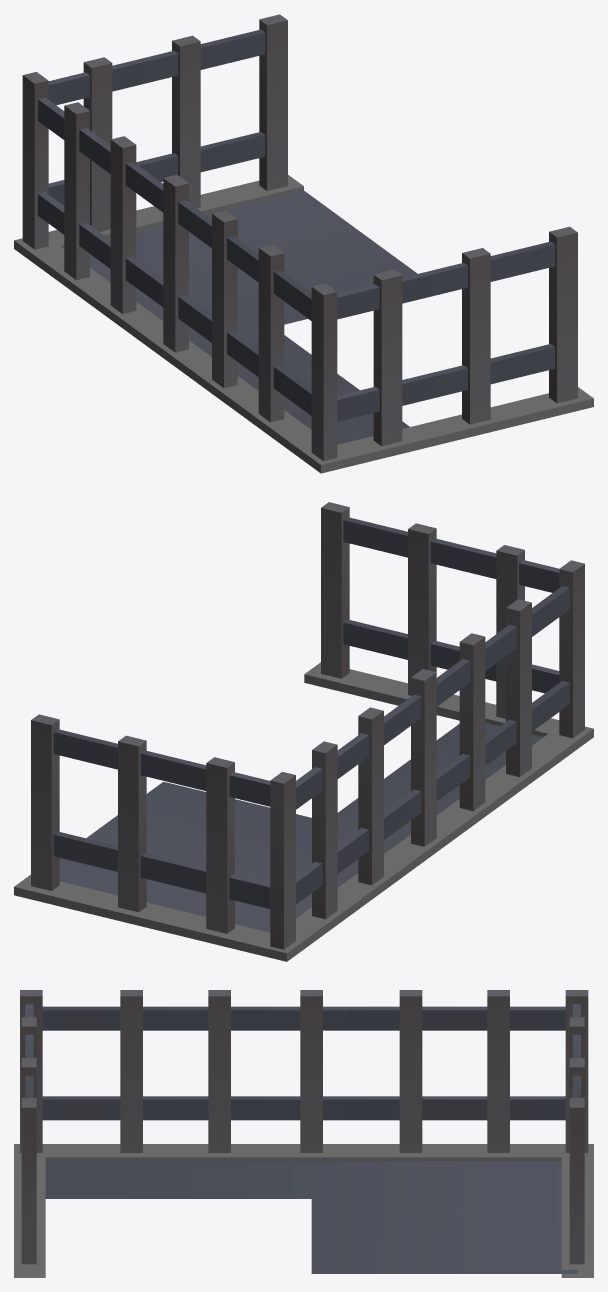
File: SM_House_Stairs_1B.FBX
The picture shows the model from 3 angles, top to bottom: view 1: azimuth 30°, elevation 25°; view 2: azimuth 150°, elevation 25°; view 3: azimuth 270°, elevation 25°; orthographic projection. The views are drawn at different scales.
Visible parts, largest first — view 1: SM_House_Stairs_1B; view 2: SM_House_Stairs_1B; view 3: SM_House_Stairs_1B.
Boxes of the visible parts, <box> form: SM_House_Stairs_1B: <box>14,14,593,473</box>; SM_House_Stairs_1B: <box>14,502,593,961</box>; SM_House_Stairs_1B: <box>14,990,593,1277</box>.
Size of what is drawn, in the model's own units: 168 by 327 by 103.
